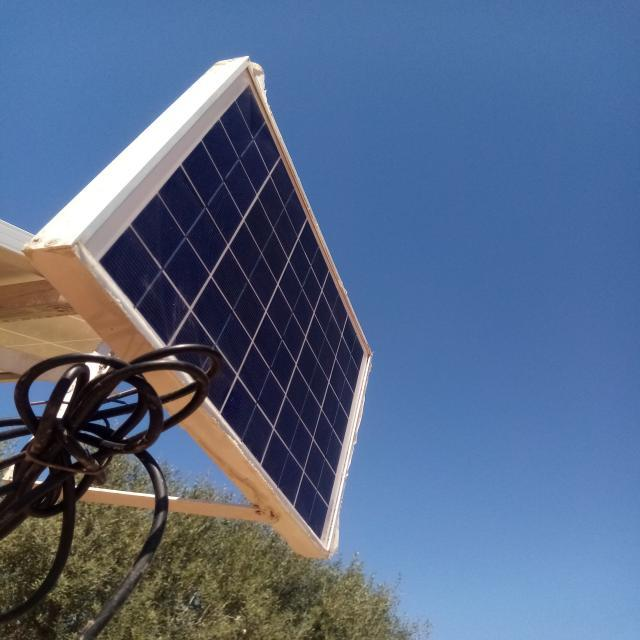no faulty: (78, 61, 373, 555)
